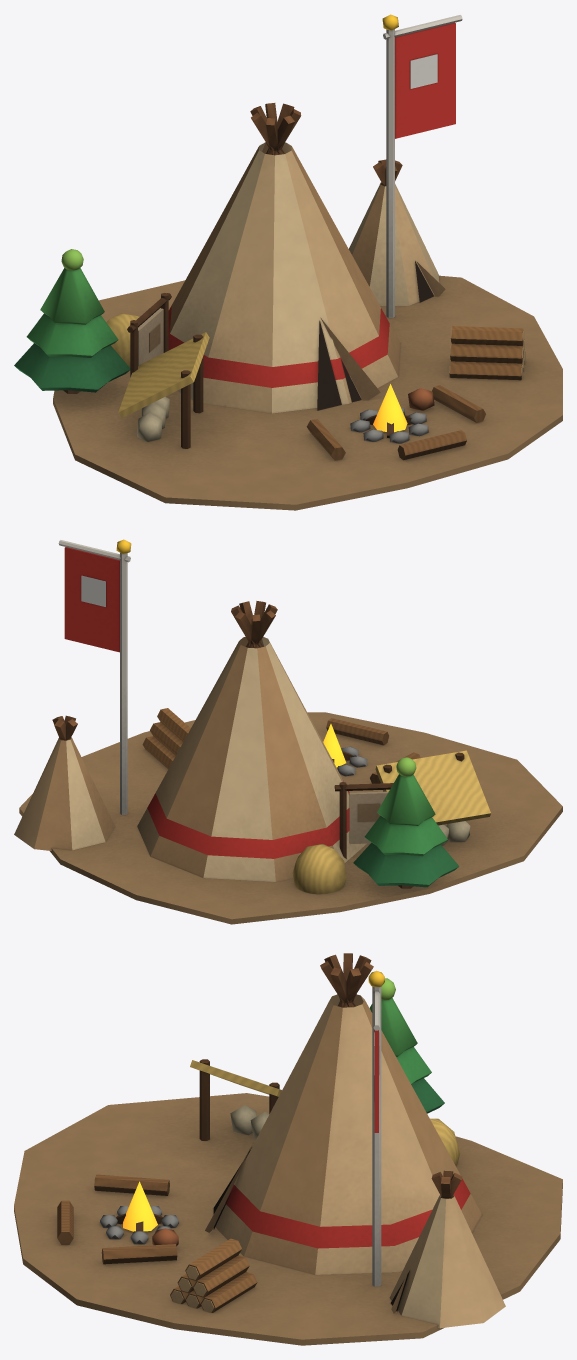
Rendered from residence_dl1_red.glb.
3 renders of one model, top to bottom at view 1: azimuth 30°, elevation 25°; view 2: azimuth 150°, elevation 25°; view 3: azimuth 270°, elevation 25°, orthographic. The views are drawn at different scales.
Parts seen in each view (by area): view 1: residence_dl1_red; view 2: residence_dl1_red; view 3: residence_dl1_red.
Part boxes in pixels (<box>): residence_dl1_red: <box>14,14,562,510</box>; residence_dl1_red: <box>14,539,562,924</box>; residence_dl1_red: <box>14,953,562,1345</box>.
Bounding box in the file's own units: 1.57 × 1.01 × 1.48.
3 materials, 1 textured.
